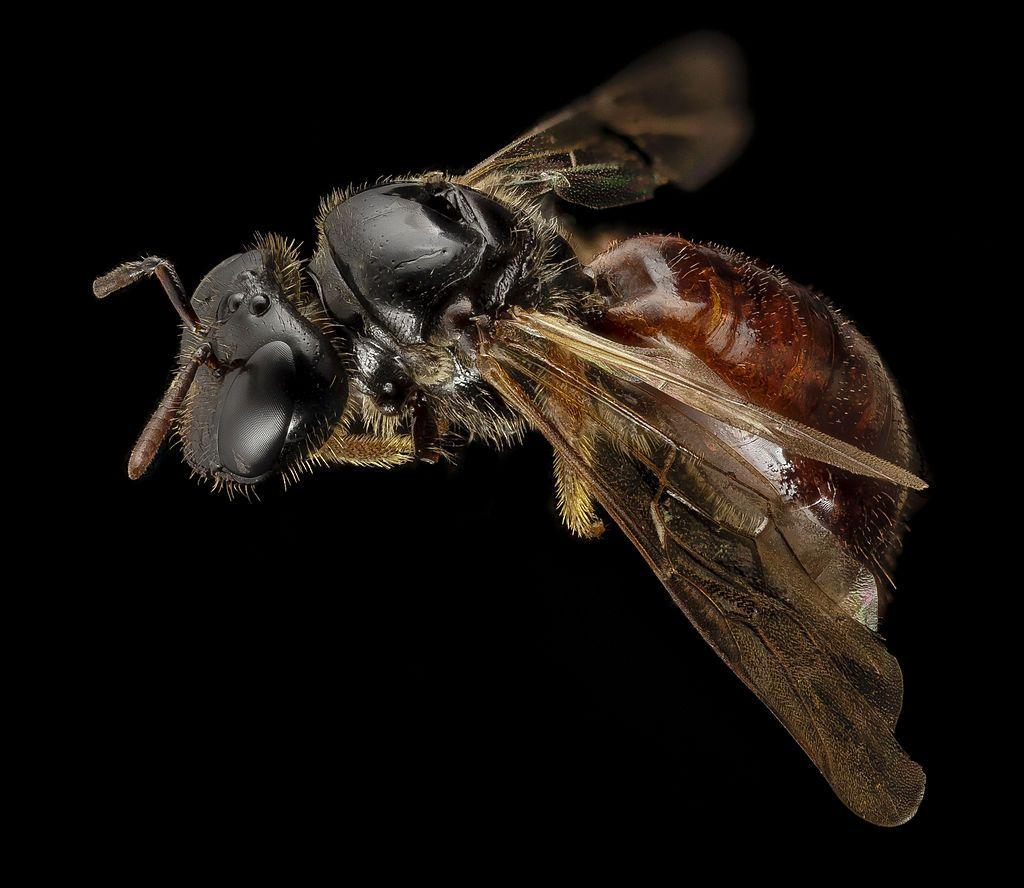Braunsapis: (82, 85, 1011, 828)
